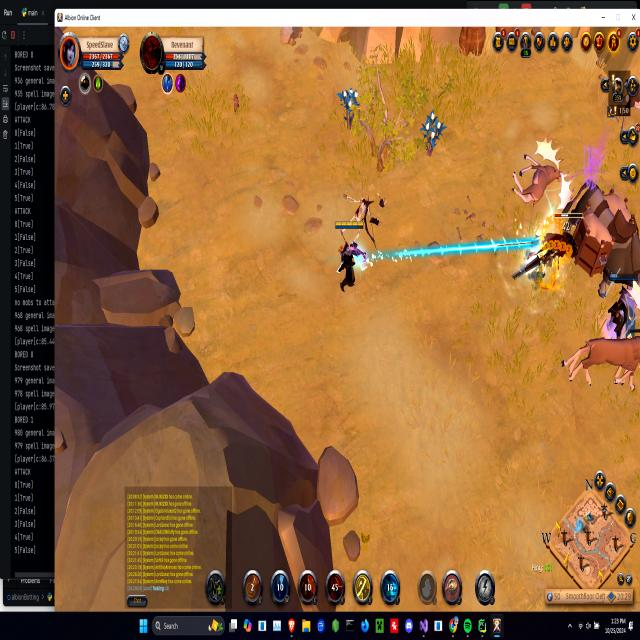hide: (421, 108, 446, 157), (338, 83, 358, 120)
mob: (511, 132, 575, 209)
ore: (516, 209, 586, 293), (561, 325, 640, 393)
red: (332, 217, 366, 294), (604, 270, 639, 342)
